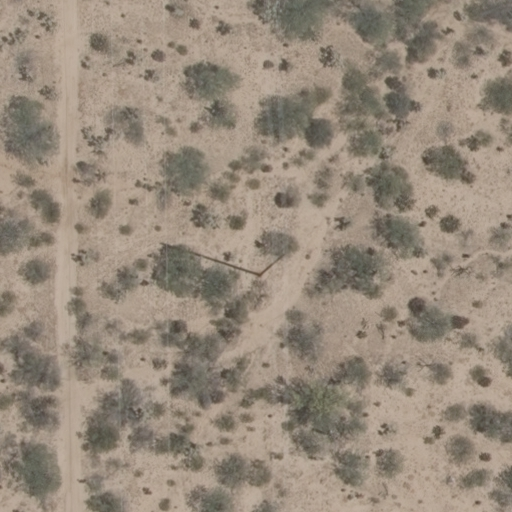DT: (256, 245, 290, 286)
